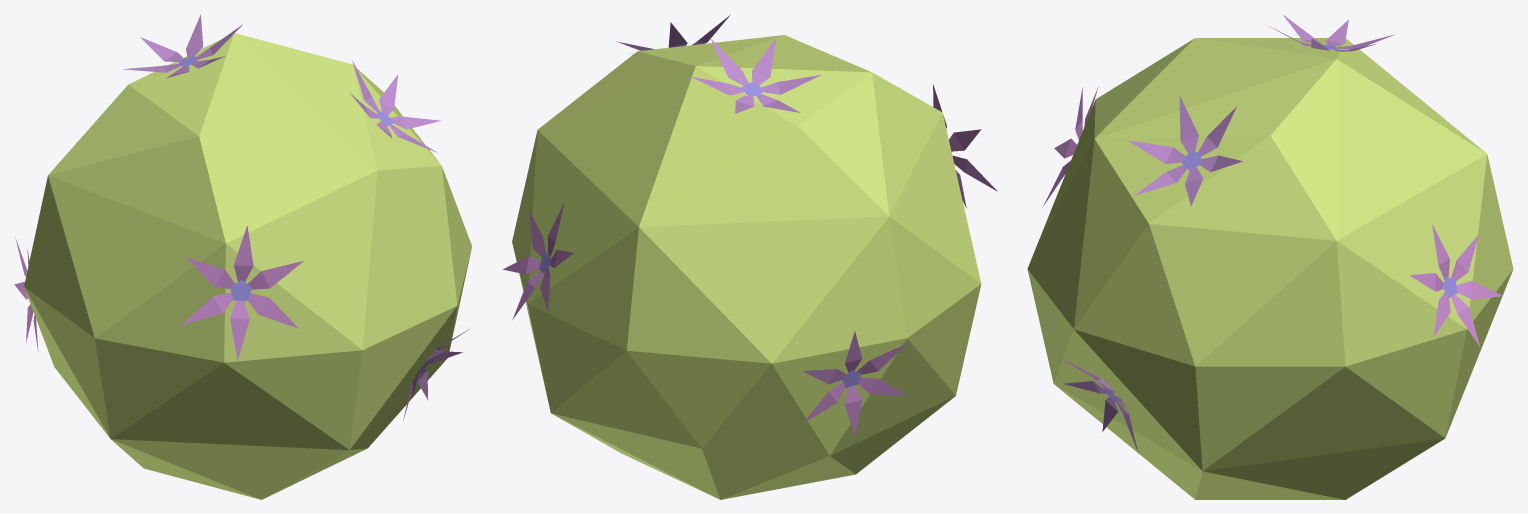
Rendered from FlowerBush_g_m_01.fbx.
The picture shows the model from 3 angles, left to right: view 1: azimuth 30°, elevation 25°; view 2: azimuth 150°, elevation 25°; view 3: azimuth 270°, elevation 25°; orthographic projection. The views are drawn at different scales.
Visible parts, largest first — view 1: FlowerBush_g_m_01_LOD0; view 2: FlowerBush_g_m_01_LOD0; view 3: FlowerBush_g_m_01_LOD0.
Boxes of the visible parts, box(x1,y1,x2,y2) form: FlowerBush_g_m_01_LOD0: box(14, 14, 471, 499); FlowerBush_g_m_01_LOD0: box(503, 15, 997, 499); FlowerBush_g_m_01_LOD0: box(1027, 15, 1513, 499).
Size of what is drawn, in the model's own units: 108 by 116 by 112.
